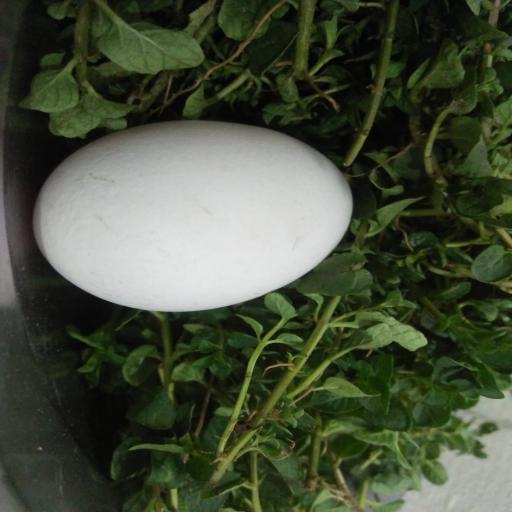telur: (33, 121, 352, 312)
